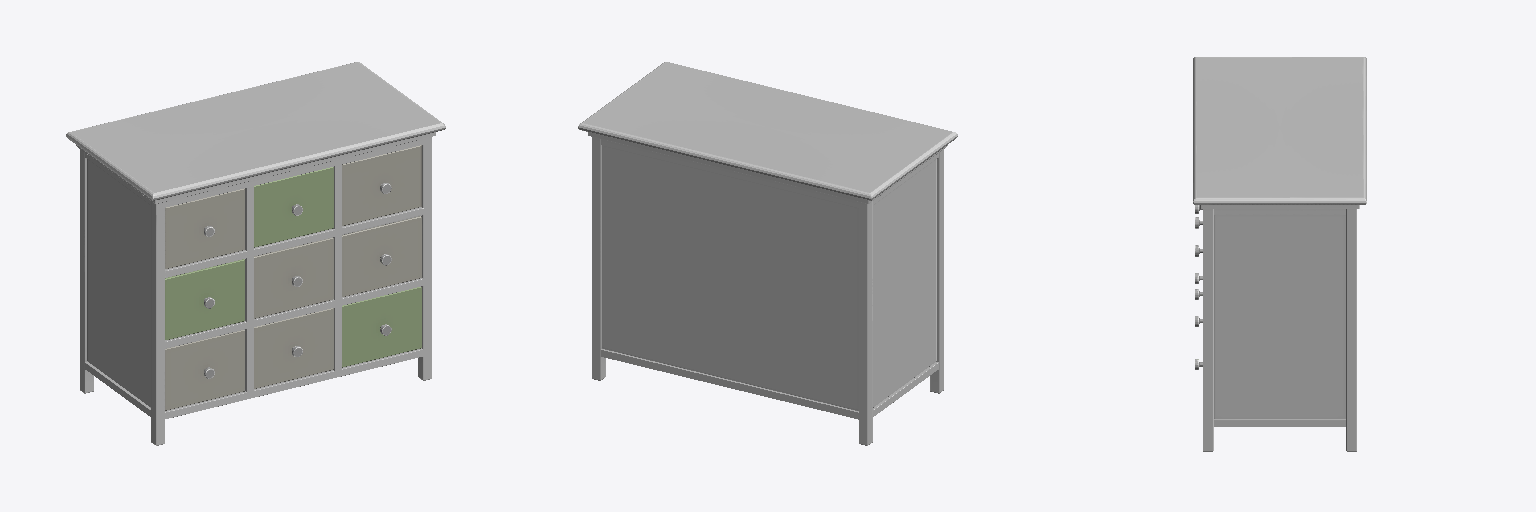
3 views of the same model, side by side, from view 1: azimuth 30°, elevation 25°; view 2: azimuth 150°, elevation 25°; view 3: azimuth 270°, elevation 25° (orthographic).
Visible parts, largest first — view 1: solid_003, solid_004, solid_002, solid_001; view 2: solid_003; view 3: solid_003.
Part boxes in pixels (x1,y1,x2,y2): solid_003: (66,62,445,445); solid_004: (165,145,421,410); solid_002: (165,167,421,367); solid_001: (204,183,391,378); solid_003: (578,62,957,445); solid_003: (1193,57,1366,451).
Size of the model in its own units: 1.04 by 0.8732 by 0.5364.
Materials: 1 (1 with a texture image).